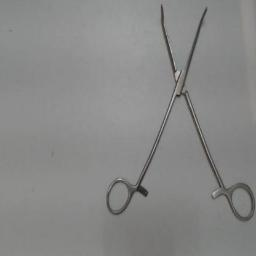Lahey Forceps: (103, 0, 255, 226)
